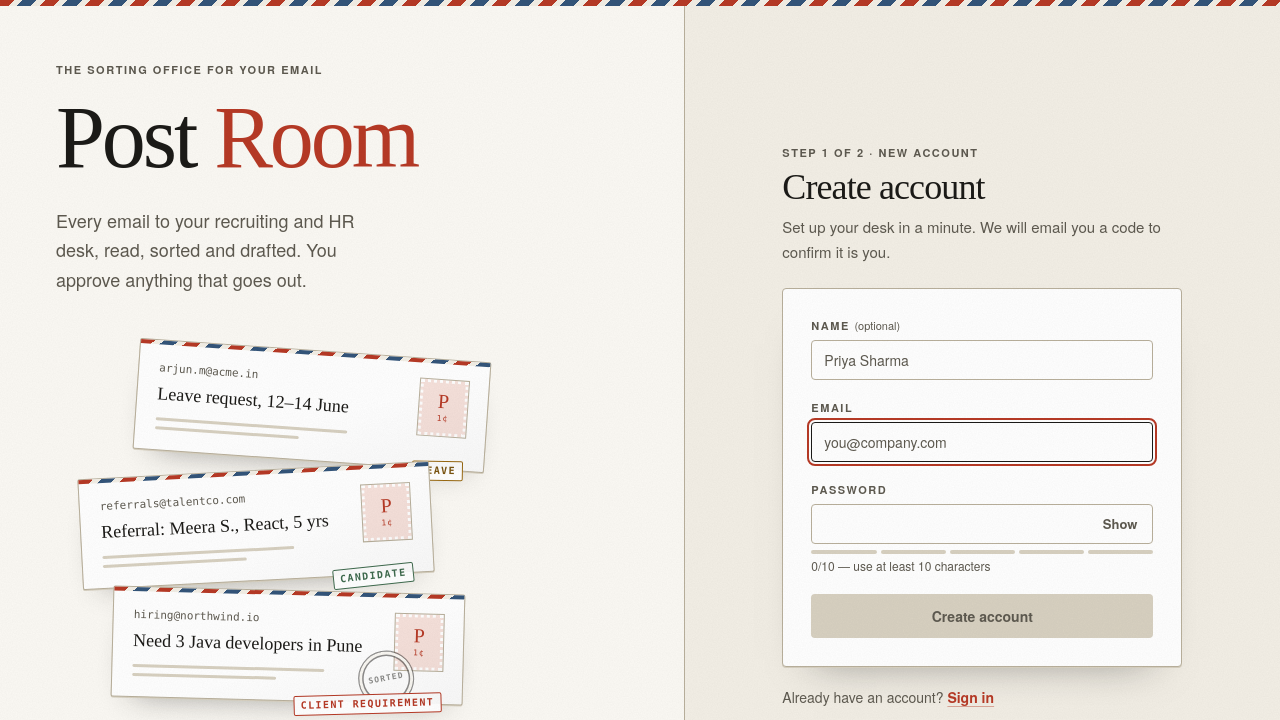
SignInPage › disables sign-up submit until the password has 10 characters
Type "a@b.test" into the field labelled "Email".
click(982, 442); type("a@b.test")  # box [811,422,1153,462]
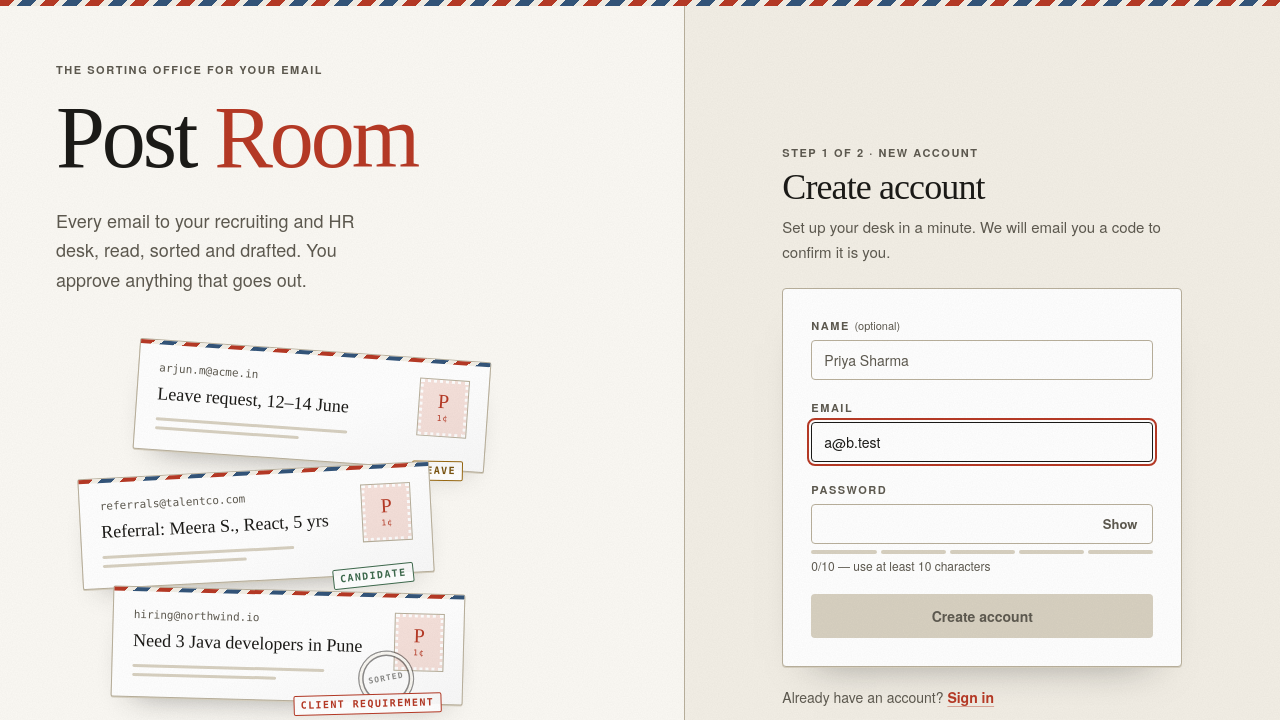
Type "short" into the password field labelled "Password".
click(982, 524); type("short")  # box [811,504,1153,544]
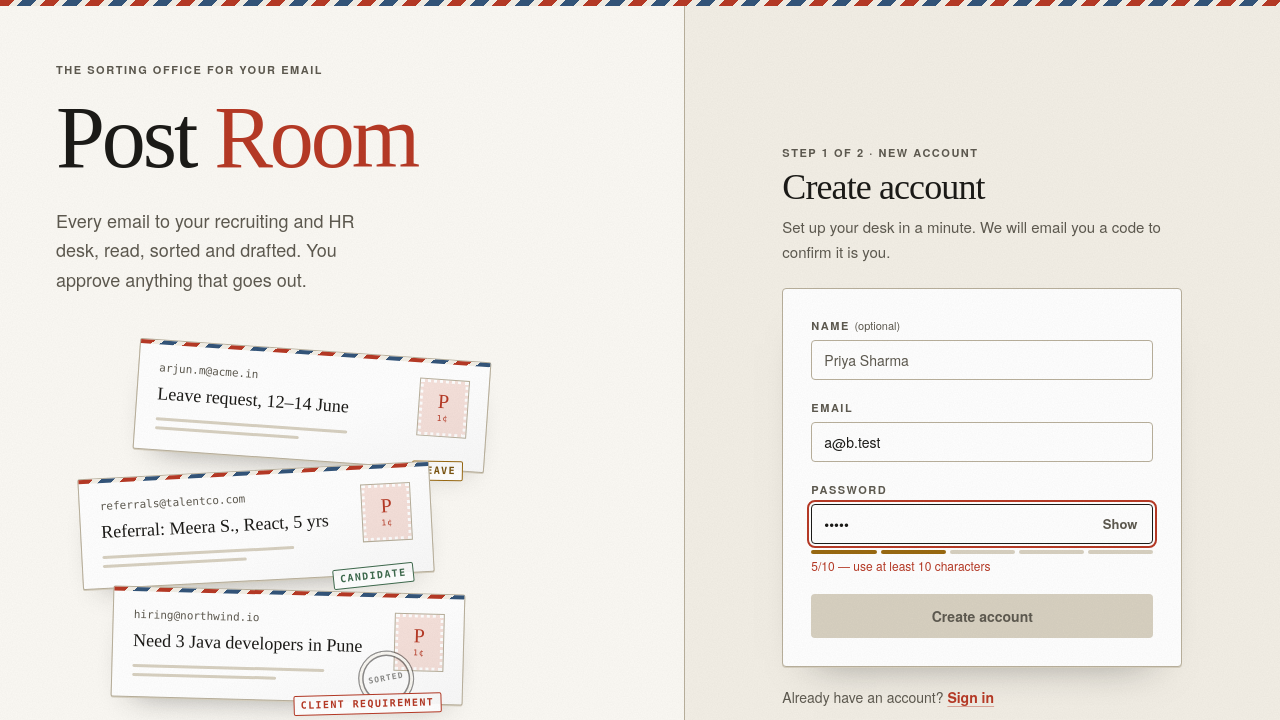
Expected: the button "Create account" is disabled, [811,594,1153,638]
Type "12345" into the password field labelled "Password".
click(982, 524); type("12345")  # box [811,504,1153,544]
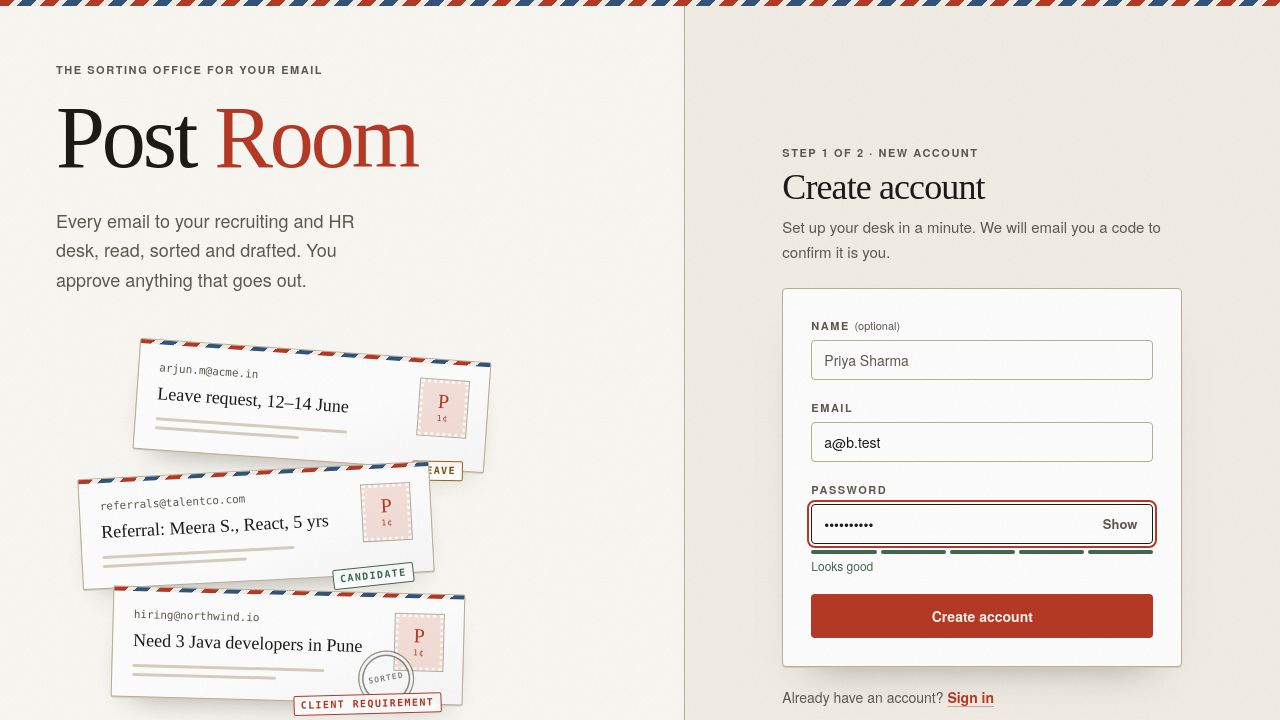
Expected: the button "Create account" is enabled, [811,594,1153,638]
